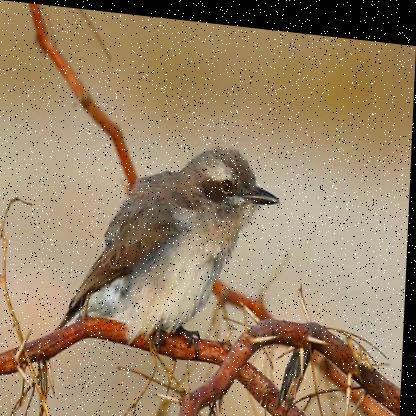Burung: (58, 127, 285, 362)
